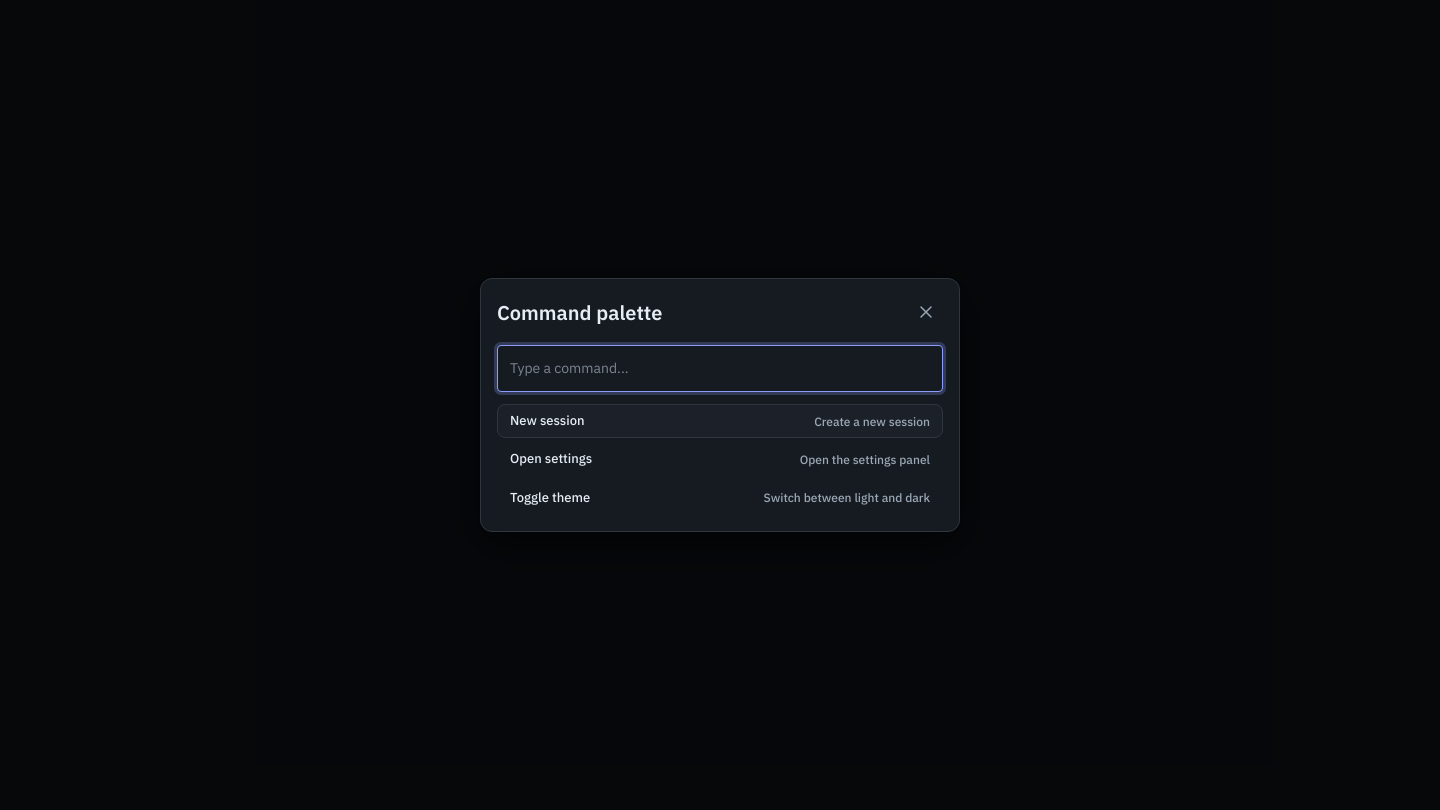
Test: CommandPalette › filters commands as the user types
Step 1. Type "settings" into the field named "Search commands" → (720, 369), box [497,345,943,392]
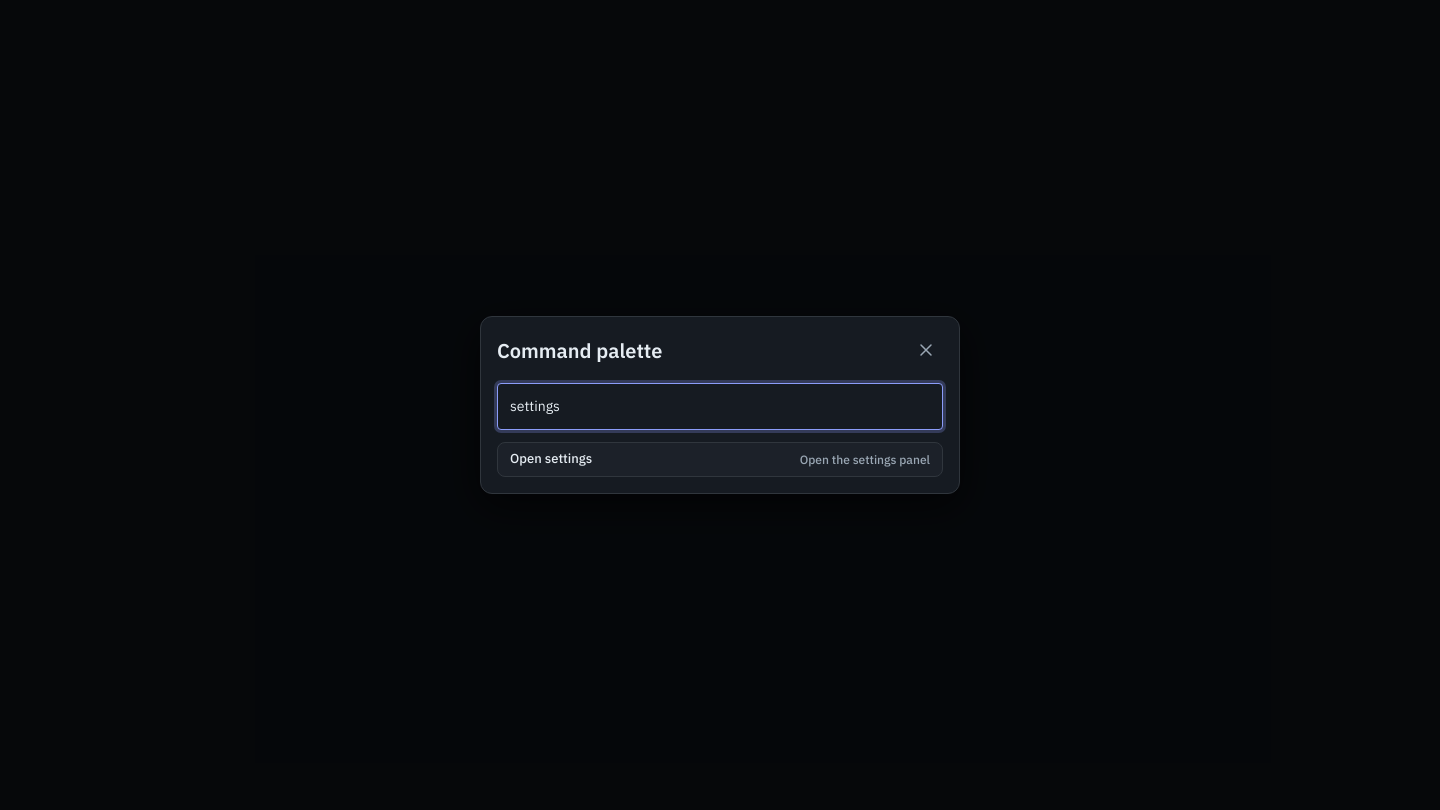
Expected: the option "Open settings Open the settings panel" is shown, [497,442,943,477]
Now the option "New session" is gone
